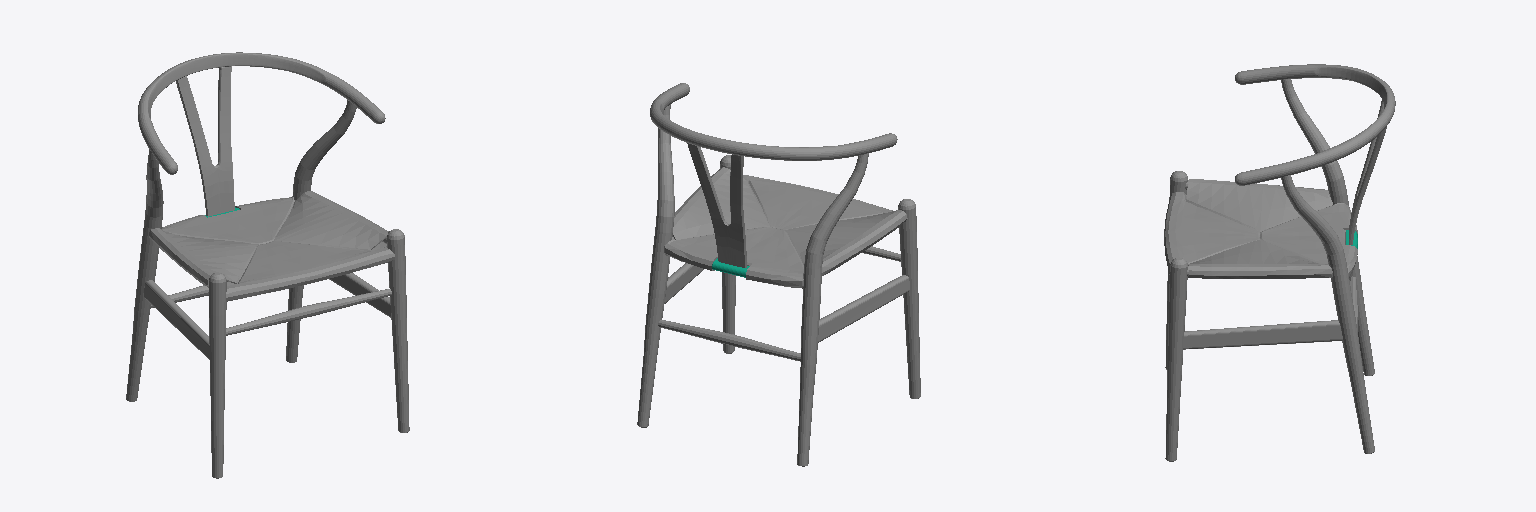
The model's file is yizi2.obj.
3 views of the same model, side by side, from view 1: azimuth 30°, elevation 25°; view 2: azimuth 150°, elevation 25°; view 3: azimuth 270°, elevation 25° (orthographic).
Parts seen in each view (by area): view 1: ch24_01, ch24_00; view 2: ch24_01, ch24_00; view 3: ch24_01, ch24_00.
Part boxes in pixels (left/top/right/bottom): ch24_01: left=126, top=52, right=409, bottom=478; ch24_00: left=149, top=191, right=394, bottom=301; ch24_01: left=637, top=83, right=920, bottom=466; ch24_00: left=664, top=167, right=907, bottom=288; ch24_01: left=1165, top=64, right=1395, bottom=461; ch24_00: left=1164, top=179, right=1357, bottom=278.
Size of the model in its own units: 54.97 by 76.21 by 50.35.